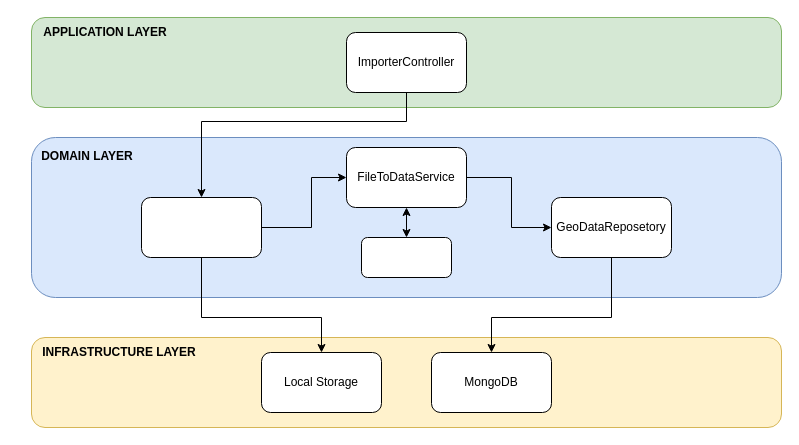
Image size: 799x445. Some labels were removed from this diagram. Here are the shapes that lost their labels. From the top down, the centre of each, then its label:
At [201,227]: "GeoImporterService".
At [406,257]: "GeoData".
